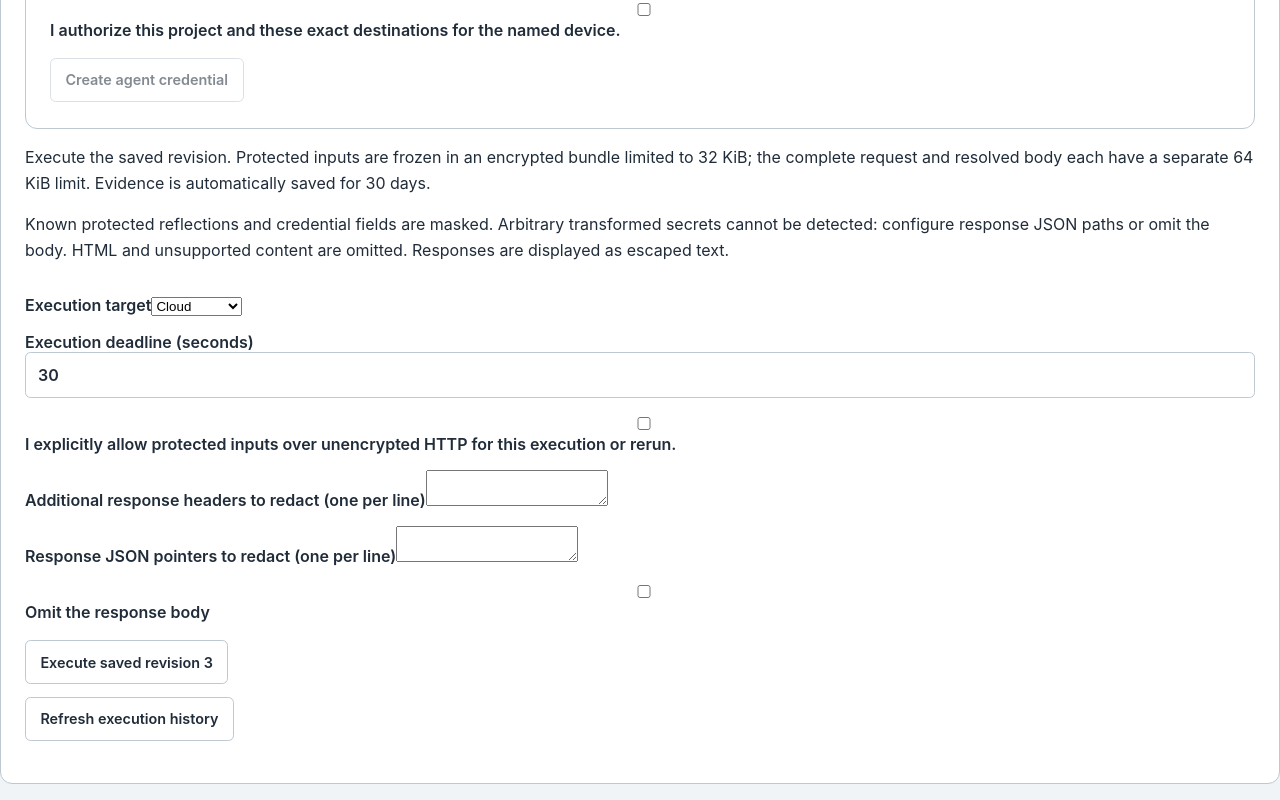
Test: keeps source, revision, key and policy on unresolved submission reconciliation
The width and height of the screenshot is (1280, 800).
(page scrolled)
Click the button "Execute saved revision 3".
click(127, 662)  # box 25,640 -> 228,684
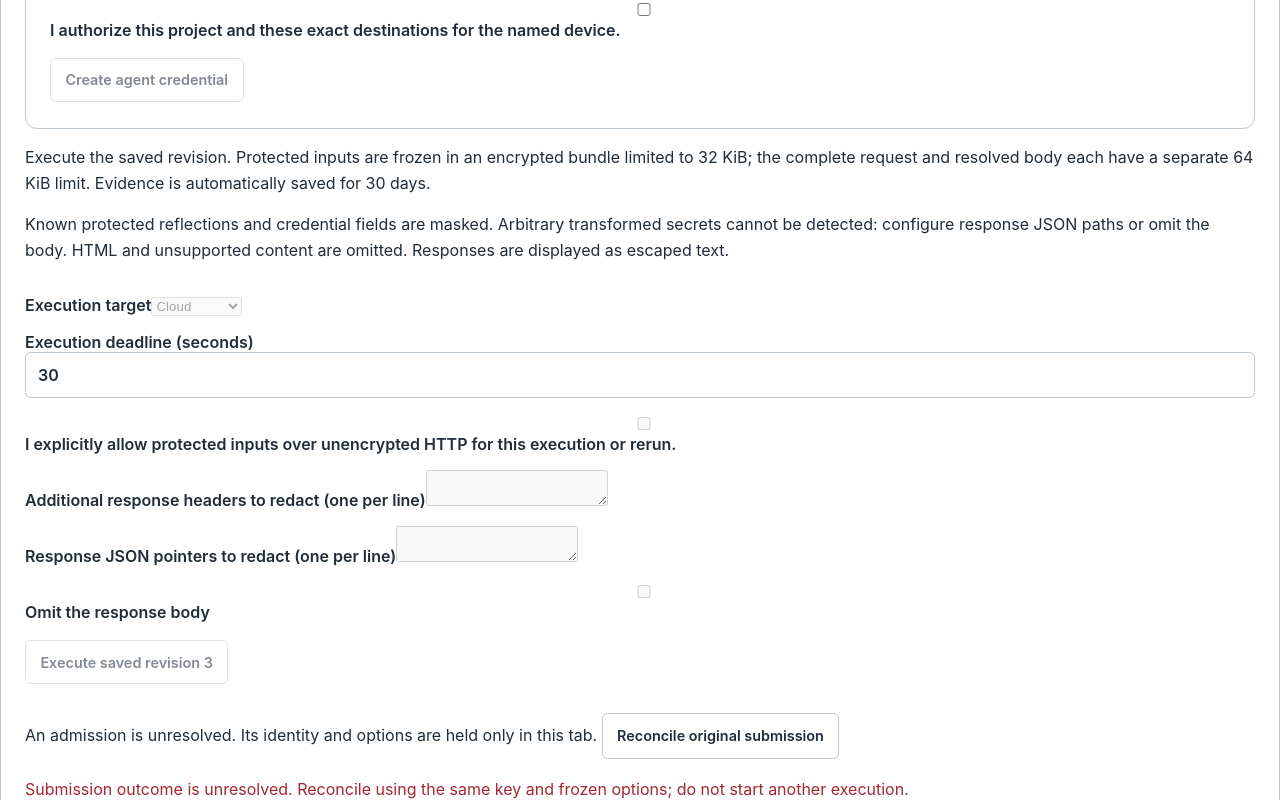
Expected: the text "Submission outcome is unresolved" is shown, 25,779 -> 909,799
Click the button "Reconcile original submission".
click(720, 736)  # box 602,713 -> 839,759
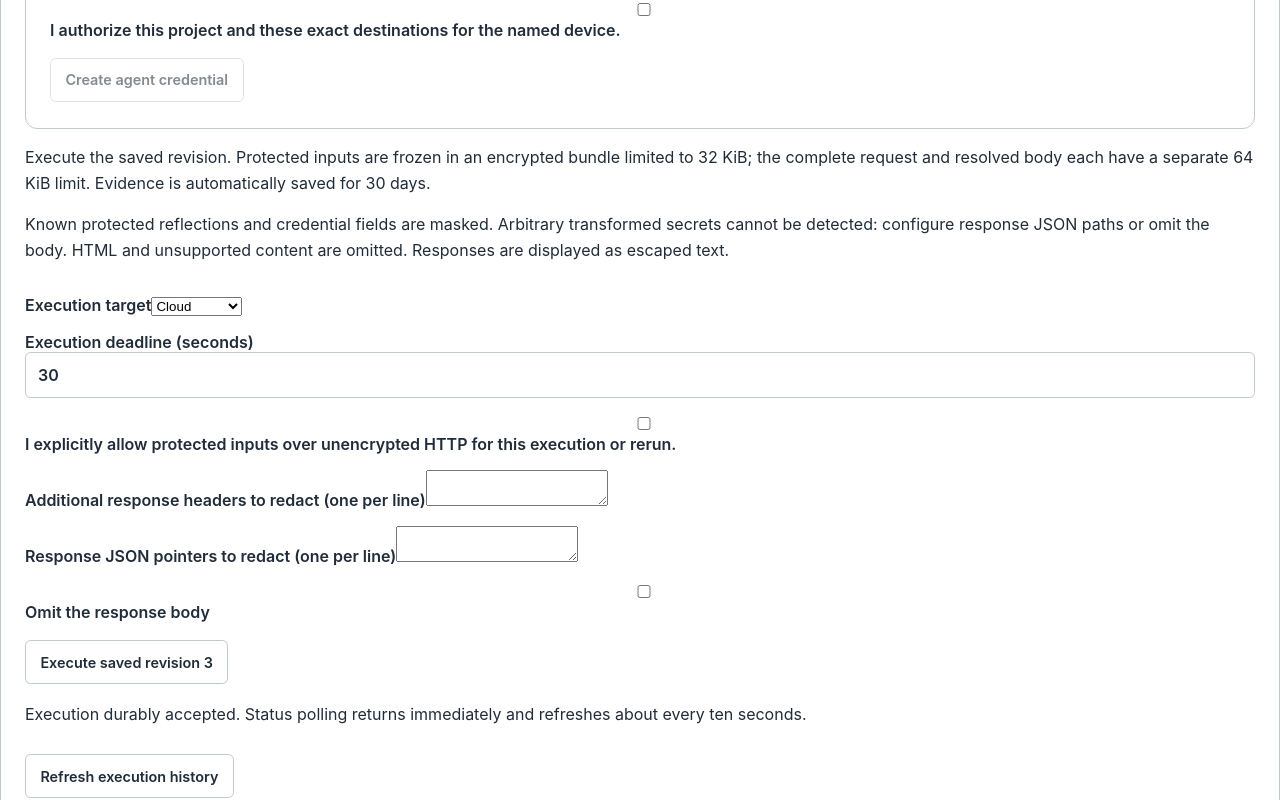
Expected: the text "Execution durably accepted" is shown, 25,704 -> 806,724
